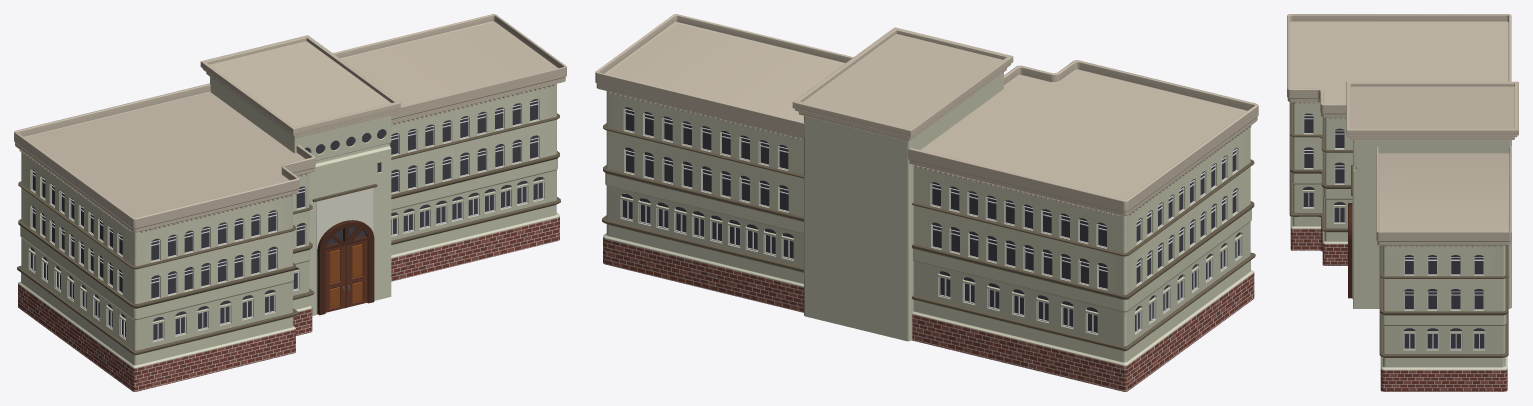
The model's file is building01.glb.
3 views of the same model, side by side, from view 1: azimuth 30°, elevation 25°; view 2: azimuth 150°, elevation 25°; view 3: azimuth 270°, elevation 25° (orthographic). The views are drawn at different scales.
Visible parts, largest first — view 1: node_id82; view 2: node_id82; view 3: node_id82.
Part boxes in pixels (box(x1,y1,x2,y2)): node_id82: box(14, 14, 566, 391); node_id82: box(595, 14, 1258, 391); node_id82: box(1287, 14, 1518, 391).
Bounding box in the file's own units: 0.7396 × 0.2863 × 0.3316.
Materials: 1 (1 with a texture image).
